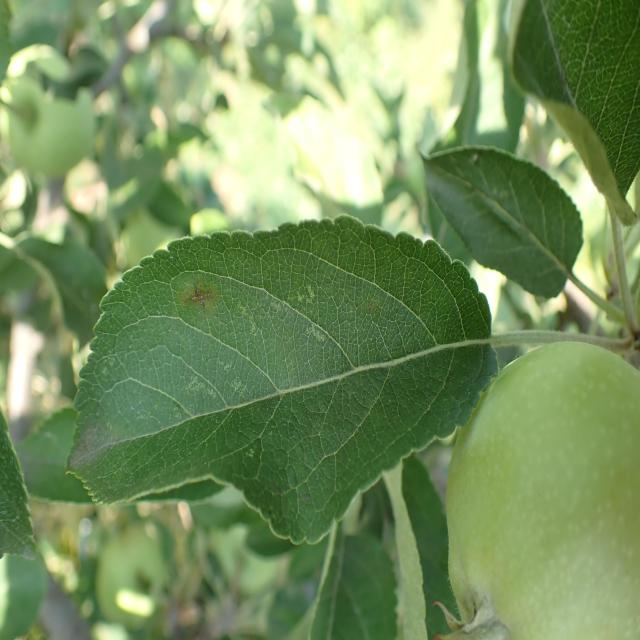scab: (49, 240, 350, 539)
